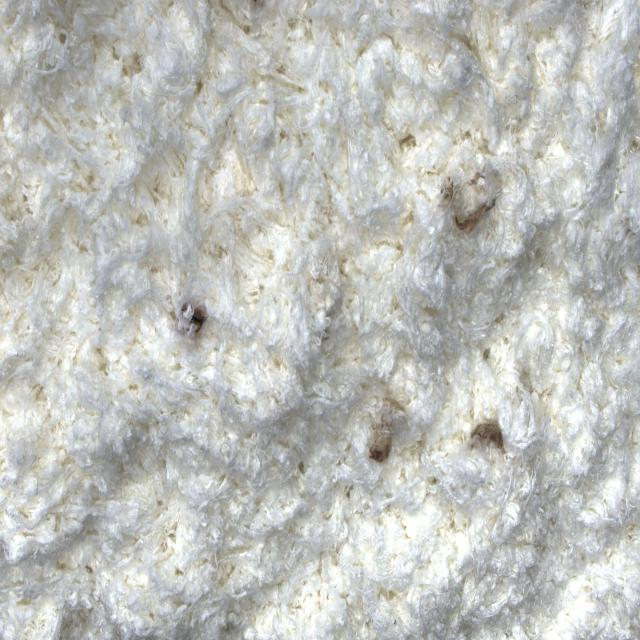dust: (352, 402, 408, 504), (168, 265, 218, 375), (460, 386, 516, 480), (440, 172, 504, 248)
